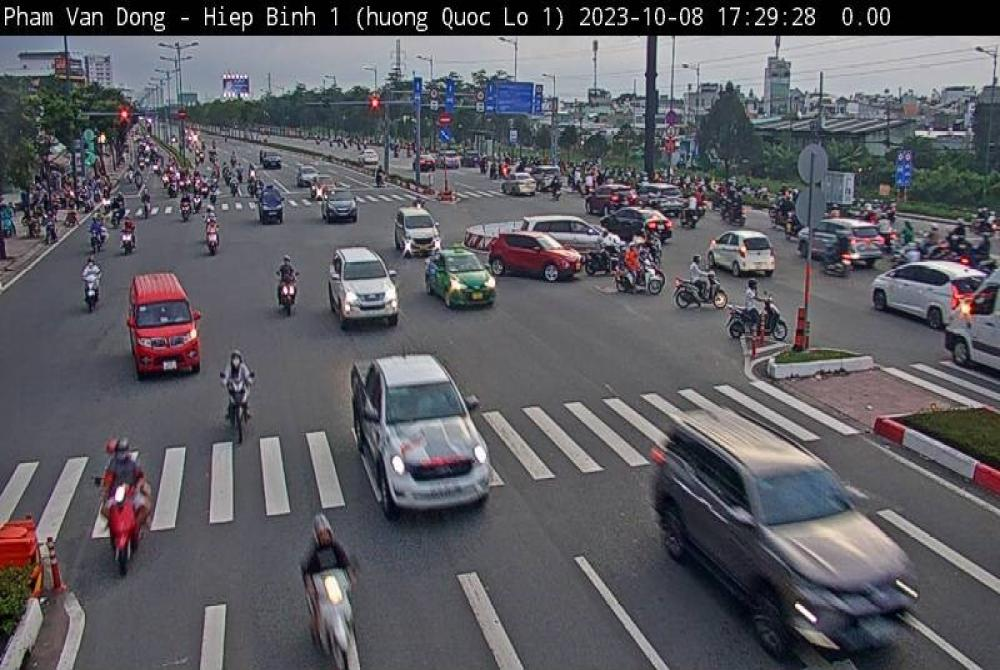car: (639, 405, 918, 670), (347, 346, 494, 527), (126, 270, 204, 382), (863, 258, 983, 321), (328, 240, 400, 335), (488, 223, 582, 293), (515, 204, 605, 276), (418, 238, 492, 315), (793, 215, 886, 268), (597, 194, 684, 249), (703, 222, 775, 287), (387, 195, 438, 262)
